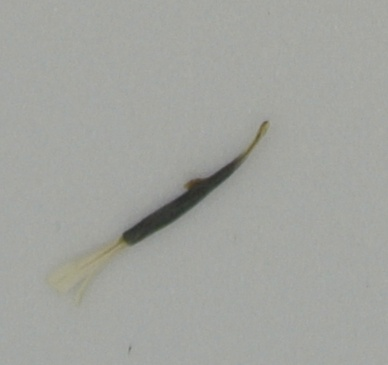เมล็ดงอกแตก: (46, 119, 271, 301)
